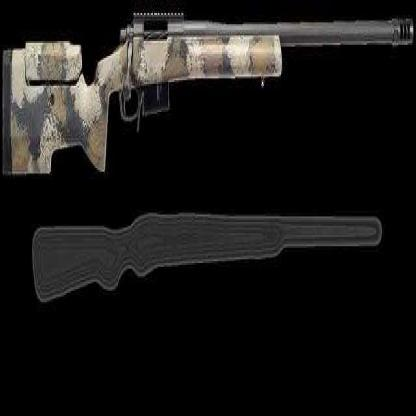Heavy Gun: (0, 11, 414, 176)
